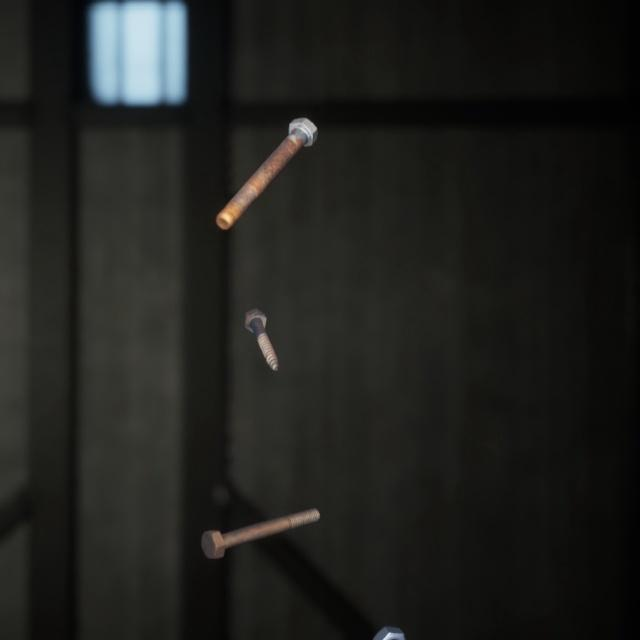bolt: (211, 99, 322, 219), (196, 481, 324, 540), (238, 285, 283, 356)
nut: (368, 599, 411, 640)
